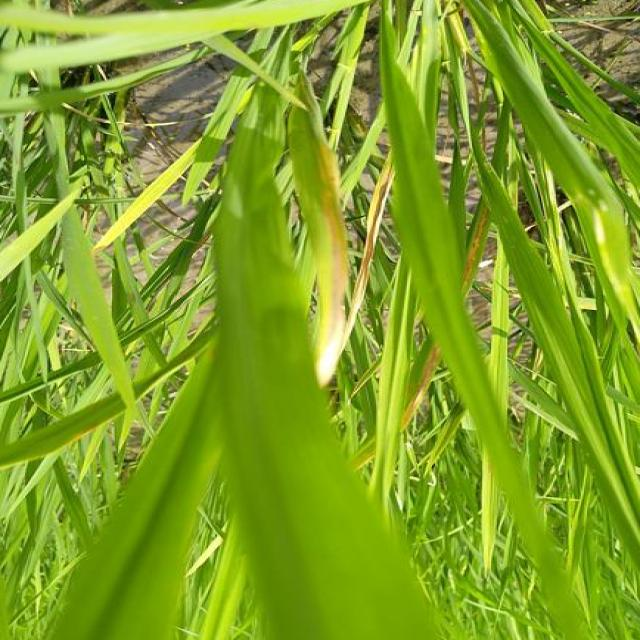Leaf Blight: (316, 143, 351, 385), (401, 321, 441, 429), (463, 196, 491, 300)
